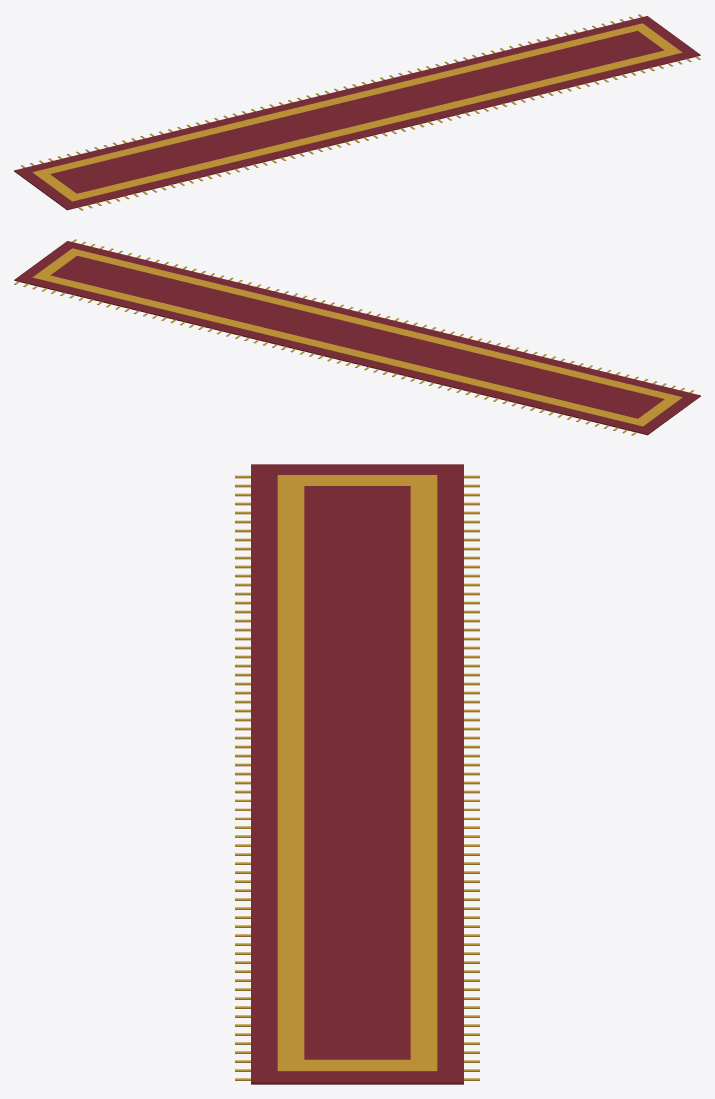
The model's file is rugHall.fbx.
3 views of the same model, one above another, from view 1: azimuth 30°, elevation 25°; view 2: azimuth 150°, elevation 25°; view 3: azimuth 270°, elevation 25° (orthographic). The views are drawn at different scales.
Visible parts, largest first — view 1: rugHall; view 2: rugHall; view 3: rugHall.
Boxes of the visible parts, x1,y1,x2,y2 form: rugHall: (14,14,700,210); rugHall: (14,239,700,435); rugHall: (235,464,479,1084).
Bounding box in the file's own units: 22 × 0.066 × 3.68.
